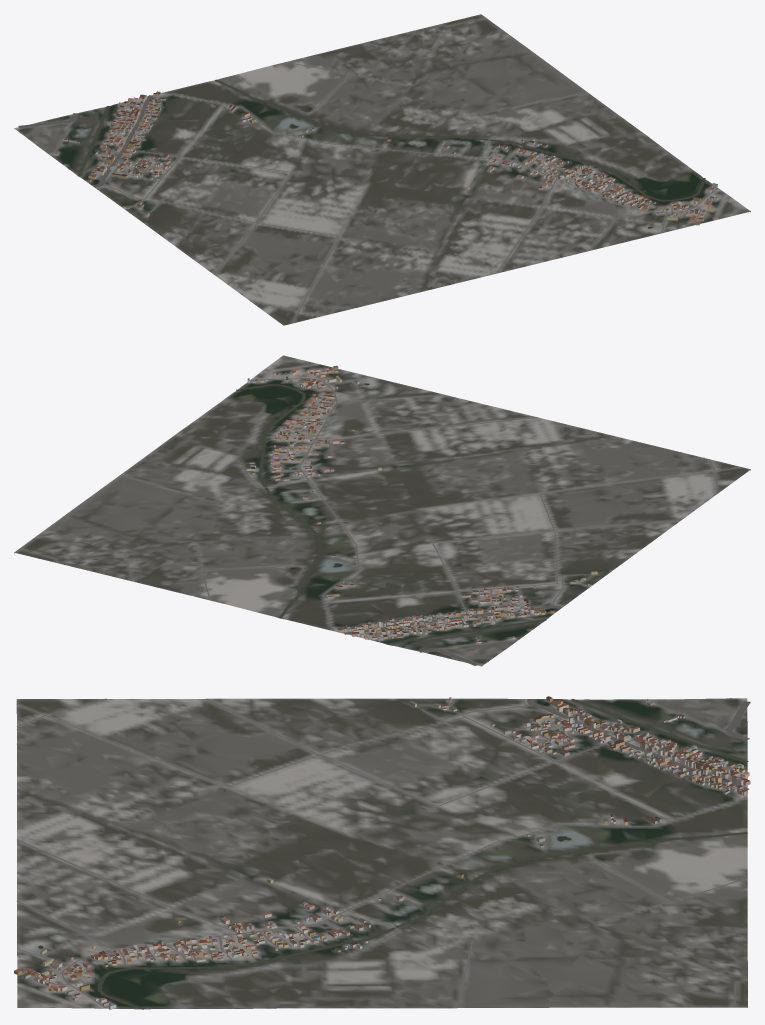
The picture shows the model from 3 angles, top to bottom: view 1: azimuth 30°, elevation 25°; view 2: azimuth 150°, elevation 25°; view 3: azimuth 270°, elevation 25°; orthographic projection. The views are drawn at different scales.
Visible parts, largest first — view 1: ground, buildings, roads, water; view 2: ground, buildings, roads, water; view 3: ground, buildings, roads, water.
Part boxes in pixels (<box>): ground: <box>14,14,750,325</box>; buildings: <box>54,91,718,225</box>; roads: <box>18,17,717,323</box>; water: <box>77,79,705,228</box>; ground: <box>14,355,750,666</box>; buildings: <box>246,365,597,643</box>; roads: <box>19,372,742,665</box>; water: <box>236,383,549,644</box>; ground: <box>16,698,747,1009</box>; buildings: <box>14,696,750,1009</box>; roads: <box>16,698,750,1008</box>; water: <box>38,699,748,1009</box>.
Size of the model in its own units: 1411 by 20.44 by 1414.
